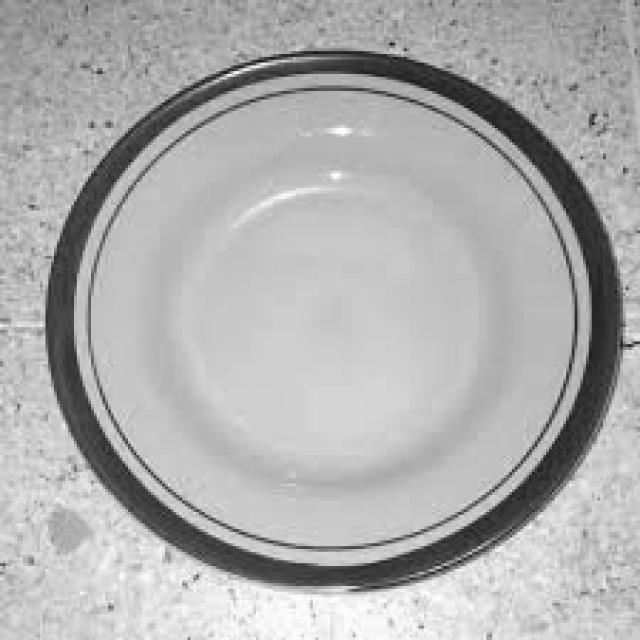dish: (28, 22, 626, 610)
